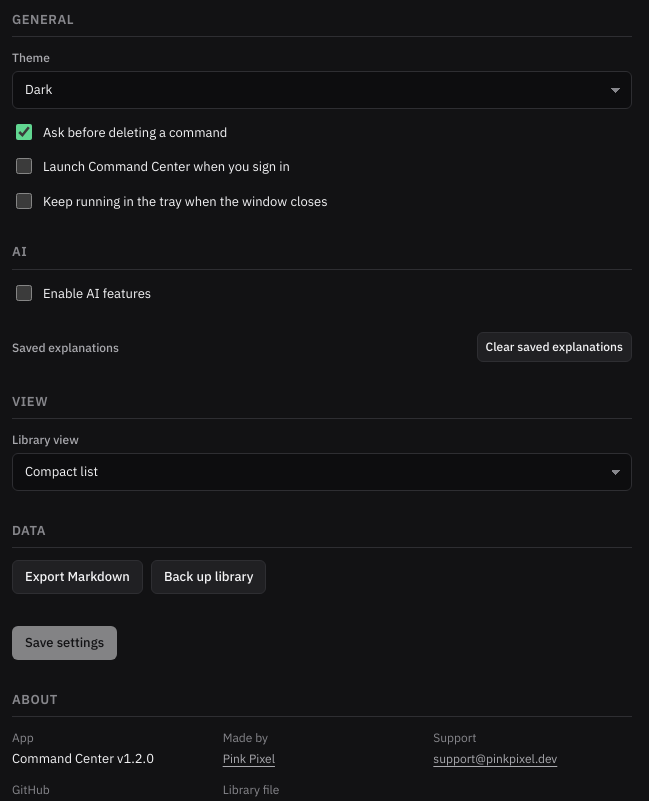
SettingsPanel › exports Markdown and creates a restorable database backup
Click the button "Export Markdown" at (77, 577), box [12,560,143,594]
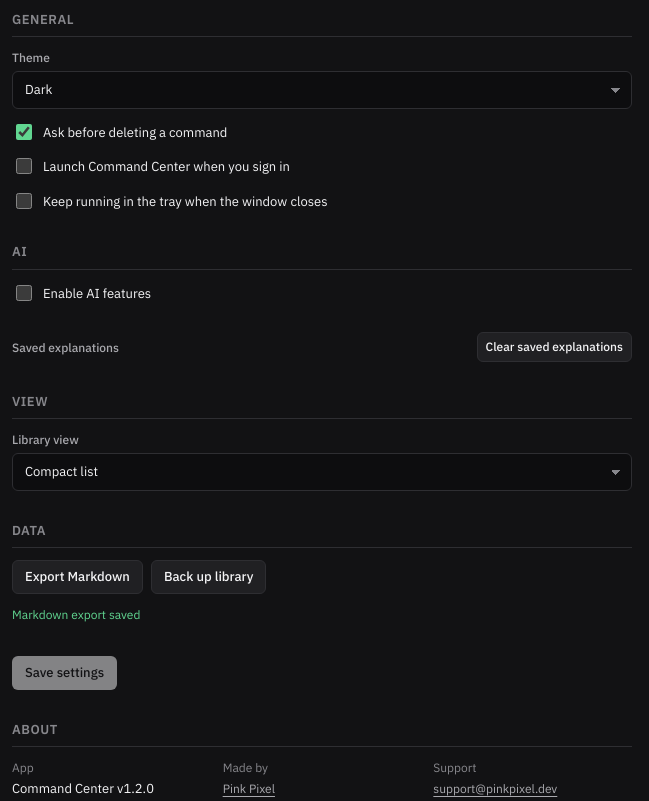
Check: the message reads "Markdown export saved", box [12,607,140,622]
Click the button "Back up library" at (209, 577), box [151,560,266,594]
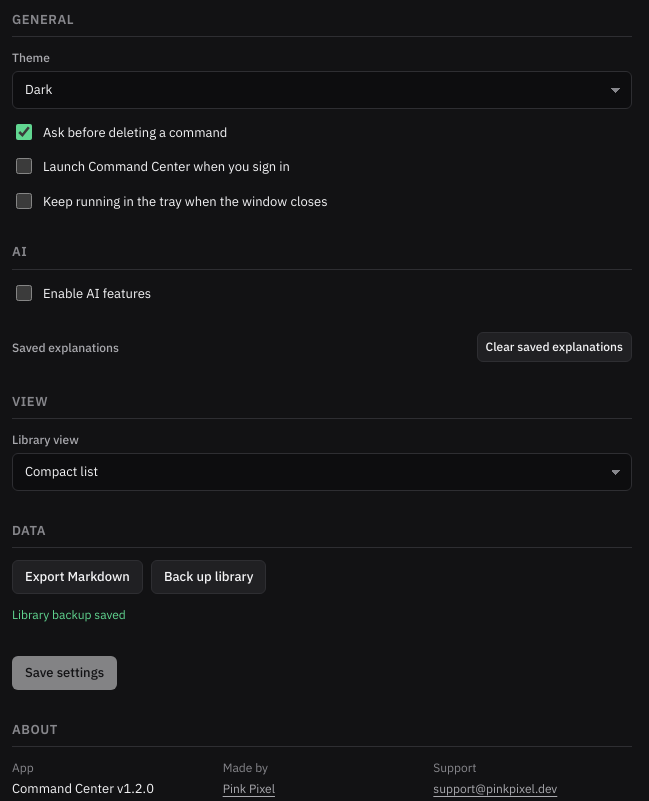
Check: the message reads "Library backup saved", box [12,607,126,622]
